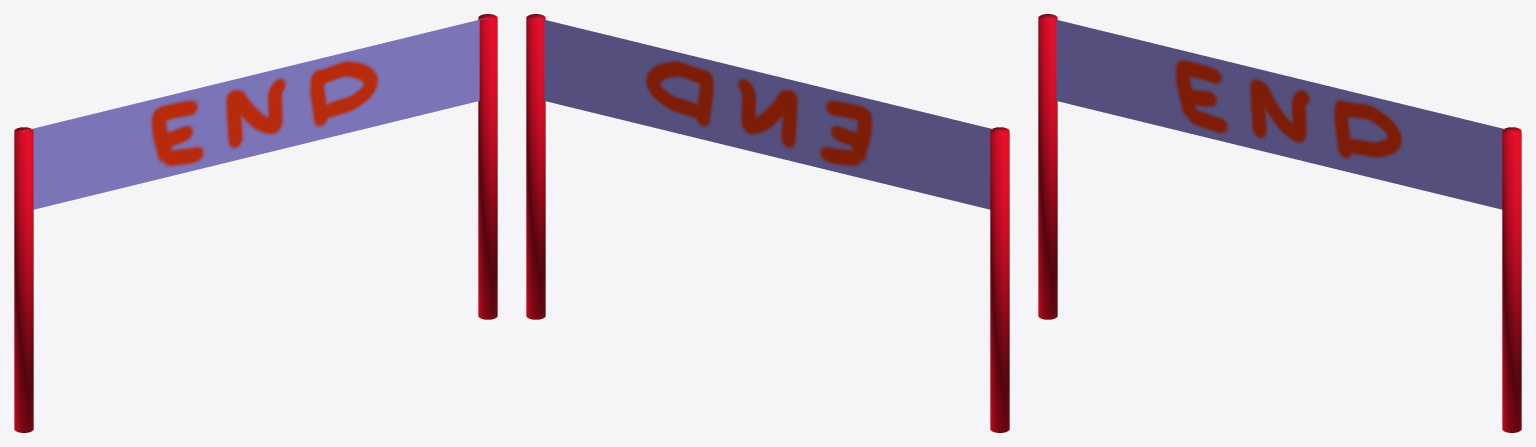
The model's file is endGate.glb.
The picture shows the model from 3 angles, left to right: view 1: azimuth 30°, elevation 25°; view 2: azimuth 150°, elevation 25°; view 3: azimuth 330°, elevation 25°; orthographic projection.
Visible parts, largest first — view 1: Plane, Cylinder, Cylinder.001; view 2: Plane, Cylinder, Cylinder.001; view 3: Plane, Cylinder.001, Cylinder.
Boxes of the visible parts, <box> form: Plane: <box>20,18,487,209</box>; Cylinder: <box>14,127,33,432</box>; Cylinder.001: <box>478,14,497,319</box>; Plane: <box>536,18,1003,209</box>; Cylinder: <box>990,127,1009,432</box>; Cylinder.001: <box>526,14,545,319</box>; Plane: <box>1044,16,1511,209</box>; Cylinder.001: <box>1502,127,1521,432</box>; Cylinder: <box>1038,14,1057,319</box>.
Size of the model in its own units: 0.3842 by 0.2276 by 0.0134.
2 materials, 1 textured.
